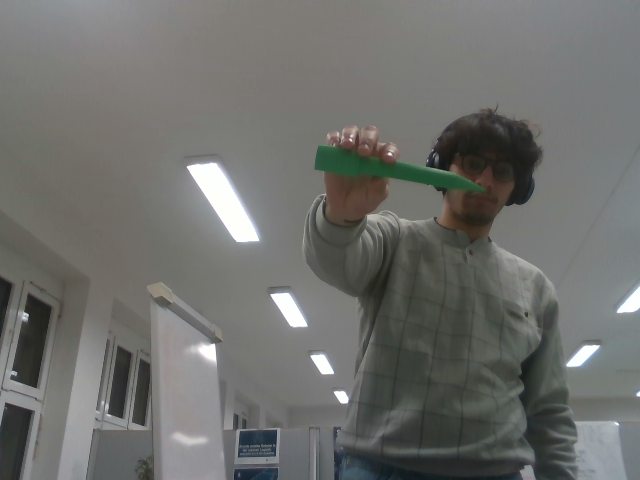Probe: (311, 140, 488, 194)
